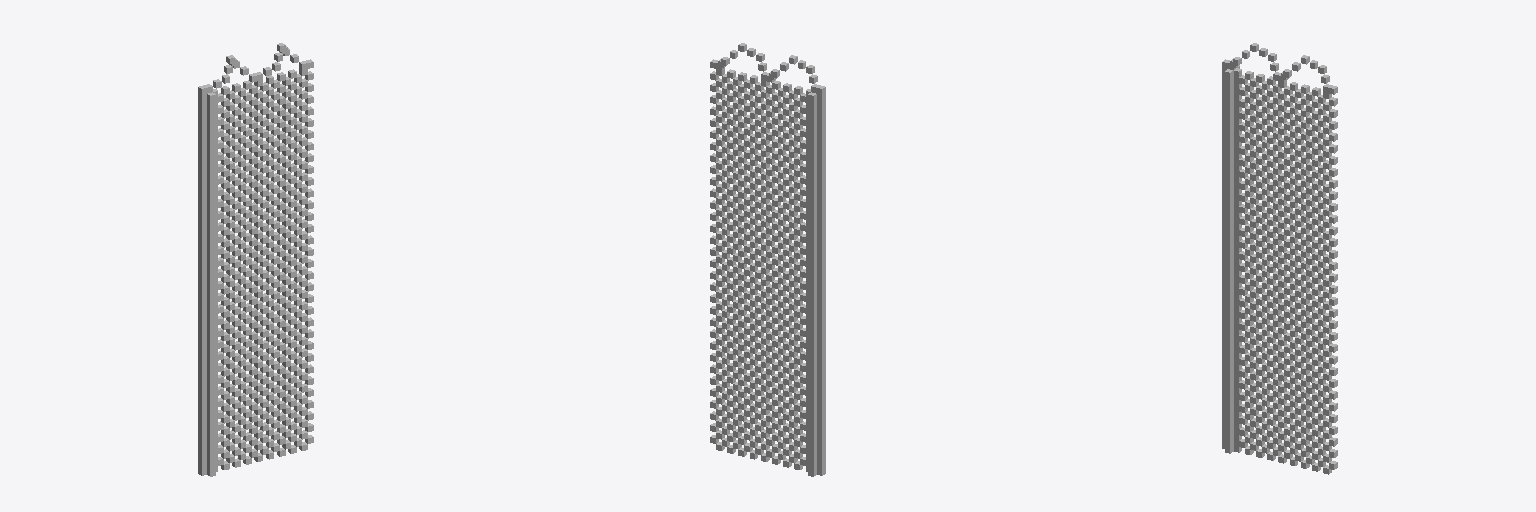
The model's file is chain fence.obj.
The picture shows the model from 3 angles: view 1: azimuth 30°, elevation 25°; view 2: azimuth 150°, elevation 25°; view 3: azimuth 330°, elevation 25°; orthographic projection.
Visible parts, largest first — view 1: object 1; view 2: object 1; view 3: object 1.
Boxes of the visible parts, box(x1,y1,x2,y2) form: object 1: box(198, 43, 313, 476); object 1: box(710, 43, 825, 476); object 1: box(1222, 43, 1337, 474).
Bounding box in the file's own units: 2 × 7 × 0.5.